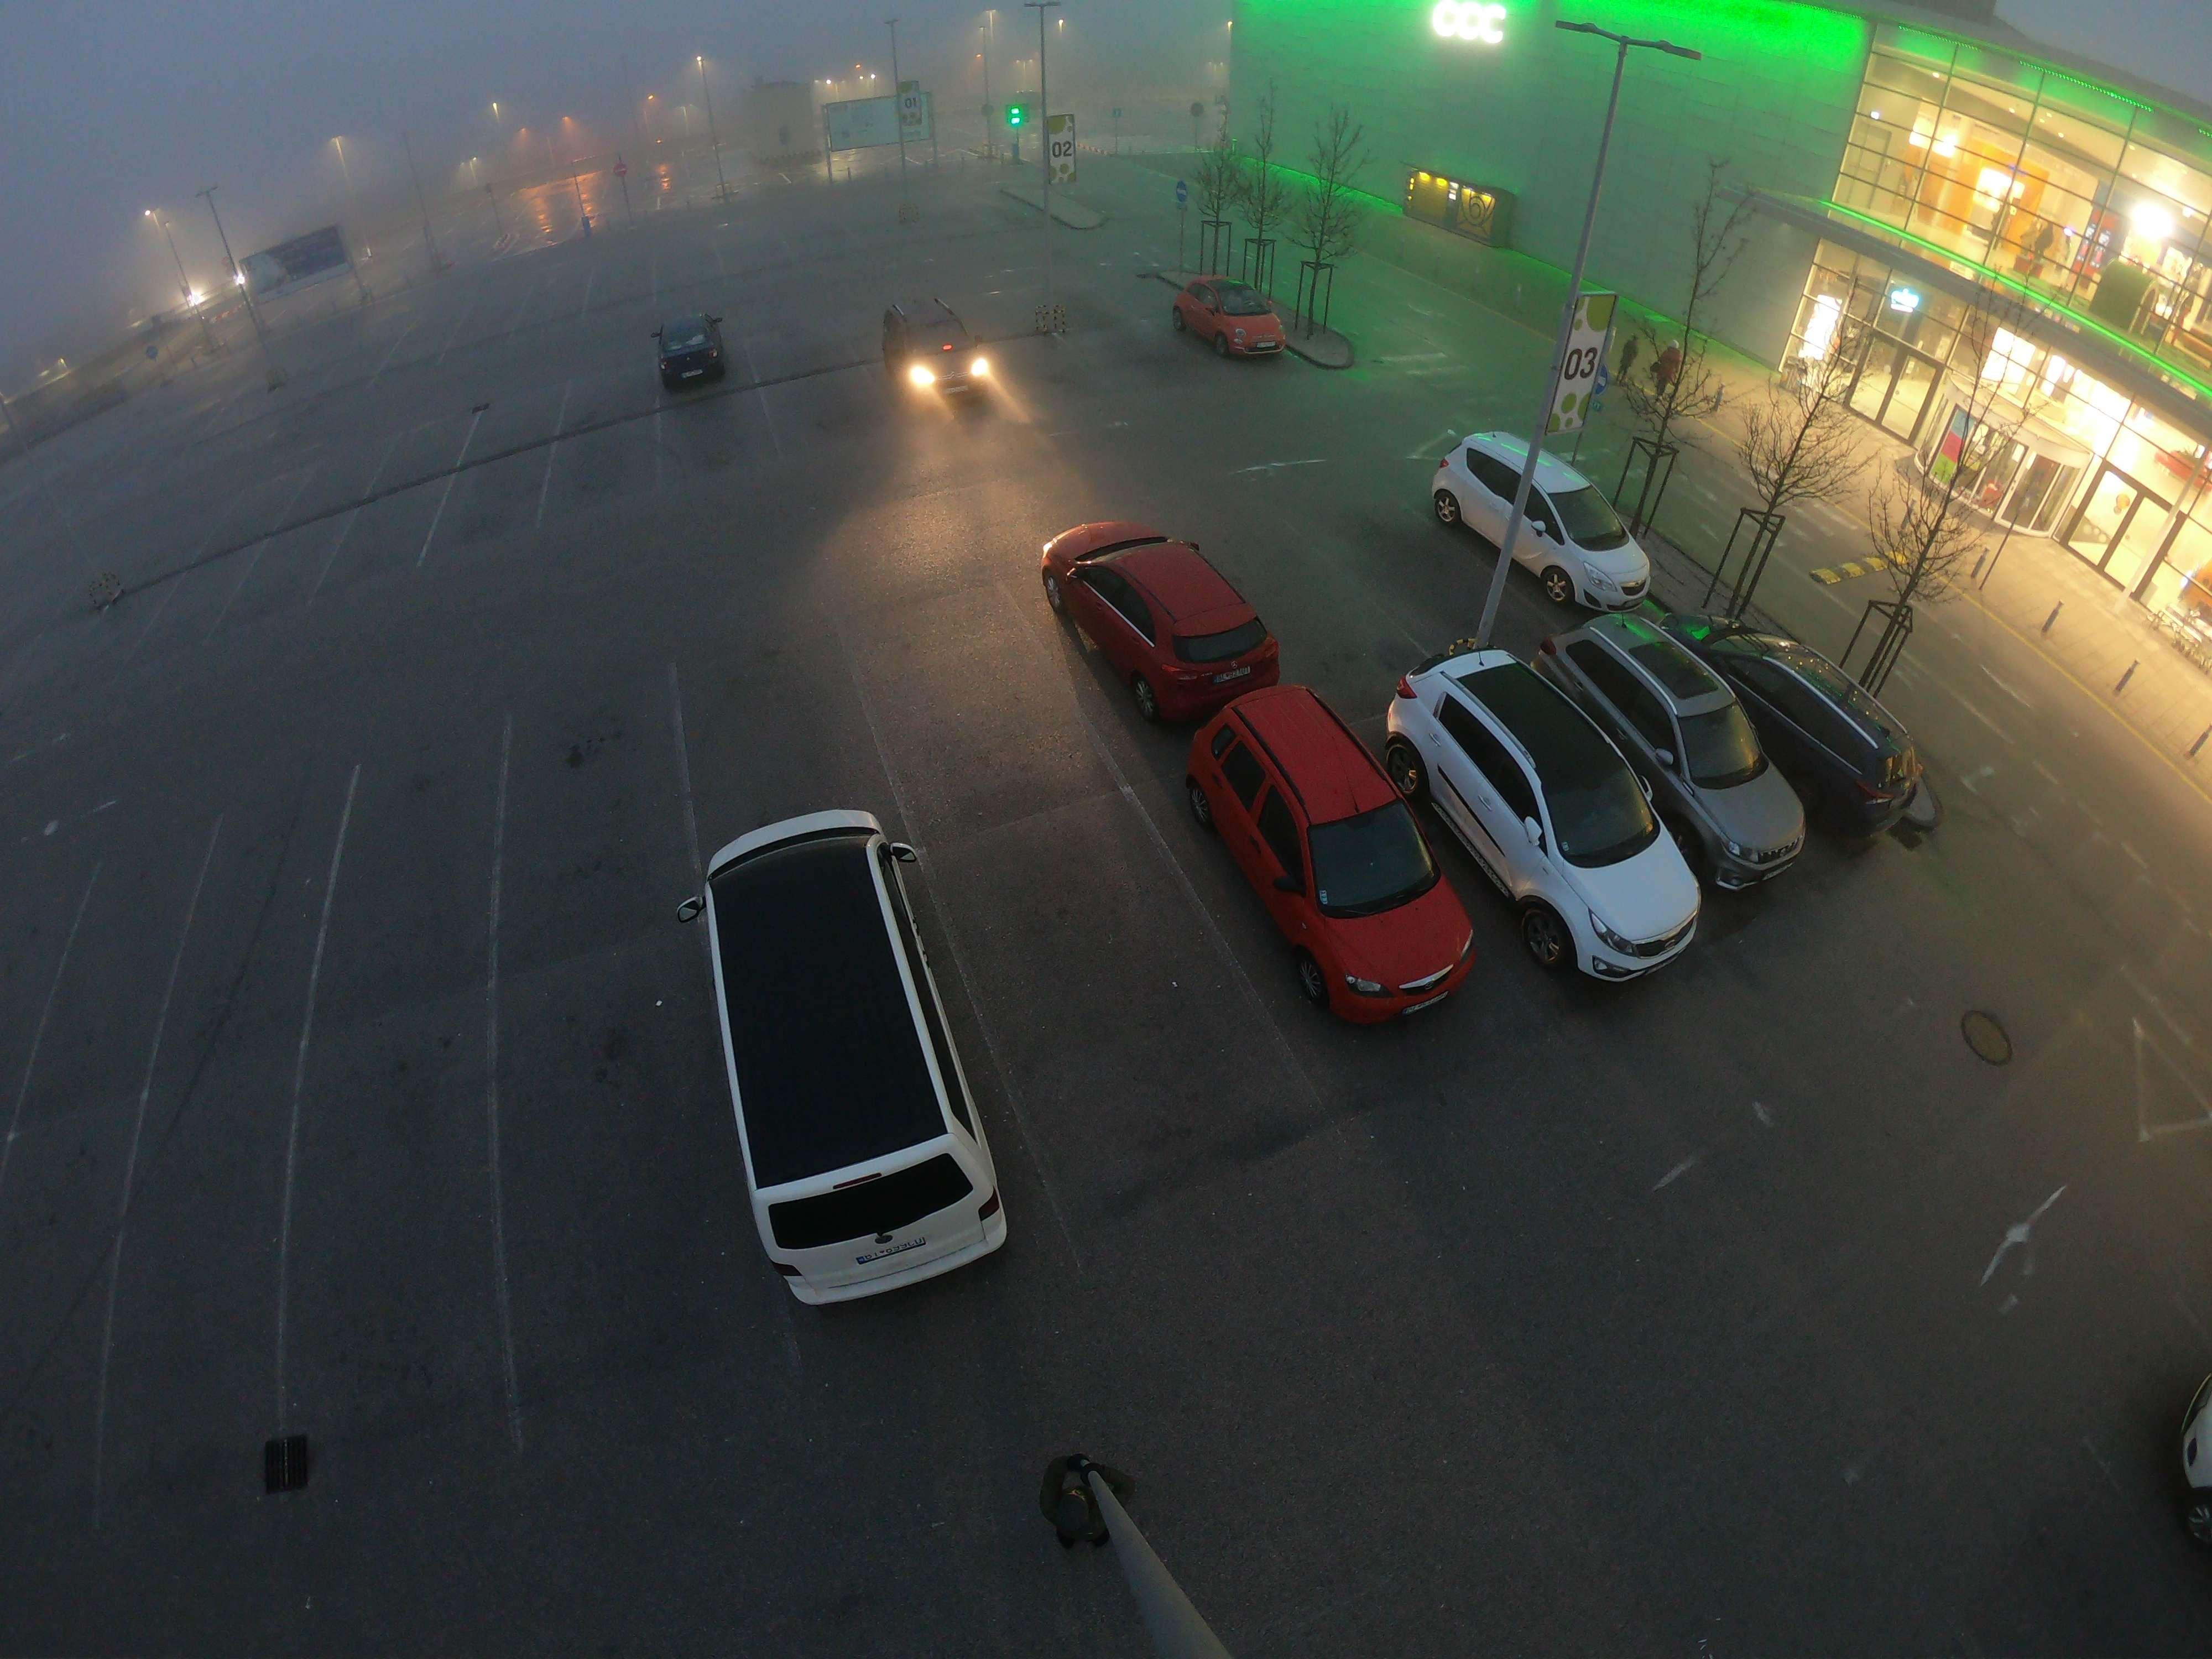empty: (662, 763, 1062, 1333), (1397, 638, 1703, 990), (1191, 671, 1479, 1030), (1559, 624, 1810, 885), (1049, 532, 1292, 714), (1731, 645, 1932, 835), (1444, 432, 1651, 612), (874, 319, 1012, 411), (1181, 277, 1296, 364), (650, 308, 737, 399)
occupied: (514, 1039, 702, 1302), (303, 1105, 484, 1352), (989, 870, 1183, 1070), (350, 789, 495, 1004), (131, 1162, 275, 1370), (512, 753, 667, 915), (888, 624, 1045, 781), (697, 687, 850, 828), (204, 854, 319, 1033), (510, 647, 660, 772), (1230, 518, 1360, 645), (52, 920, 183, 1032), (1367, 516, 1468, 627), (566, 439, 653, 511), (460, 471, 543, 542), (672, 408, 756, 471), (340, 512, 420, 575), (258, 540, 329, 606)
